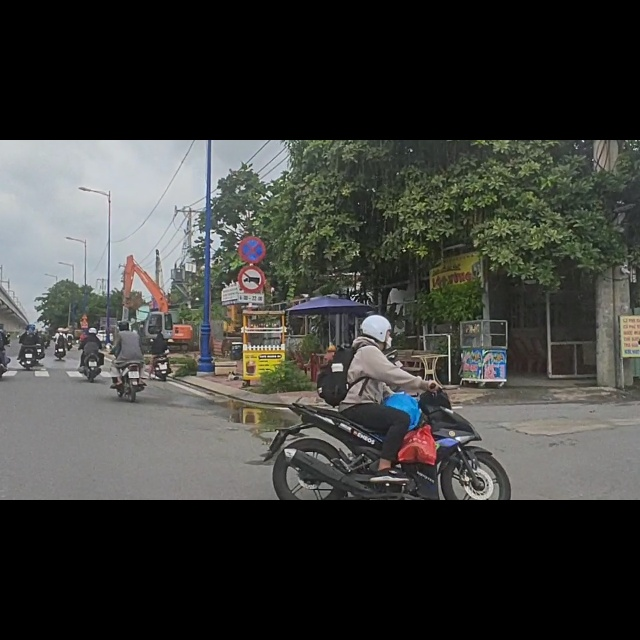bien_cam: (237, 223, 267, 271), (238, 171, 267, 220)
